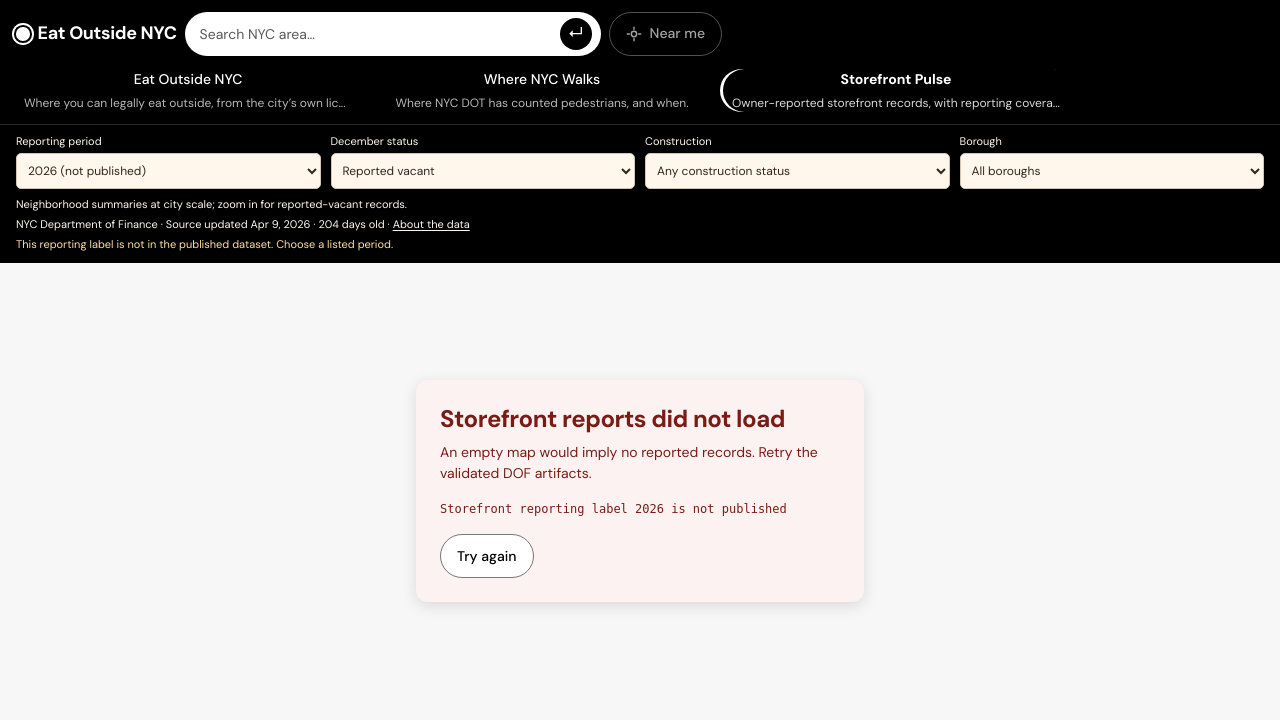
Test: Storefront Pulse in the shared app › offers explicit recovery for a requested label absent from the manifest, without showing the default cohort
This screenshot has width=1280, height=720.
Expected: the heading "Storefront reports did not load" is shown, [440,404,840,434]
Expected: the text "Storefront reporting label 2026 is not published" is shown, [440,500,840,518]
Select "2024" in the dropdown labelled "Reporting period" at (168, 170), box [16,152,320,188]
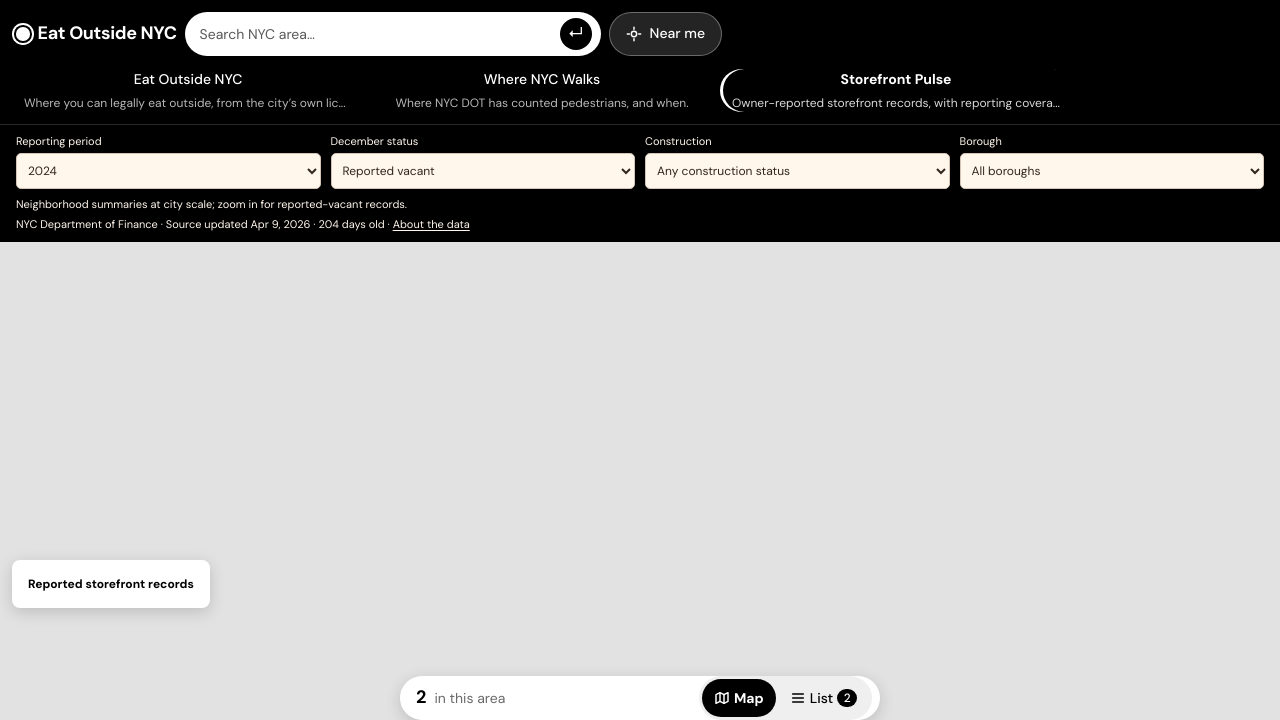
Now the dropdown labelled "Reporting period" shows "2024", box [16,152,320,188]
